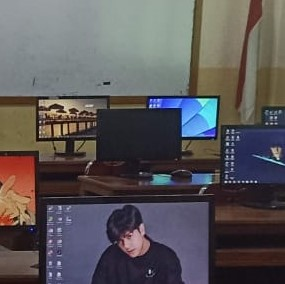monitor: (37, 194, 215, 281), (203, 124, 285, 209), (96, 108, 182, 163), (0, 151, 40, 249), (35, 95, 110, 143), (146, 95, 220, 141)
